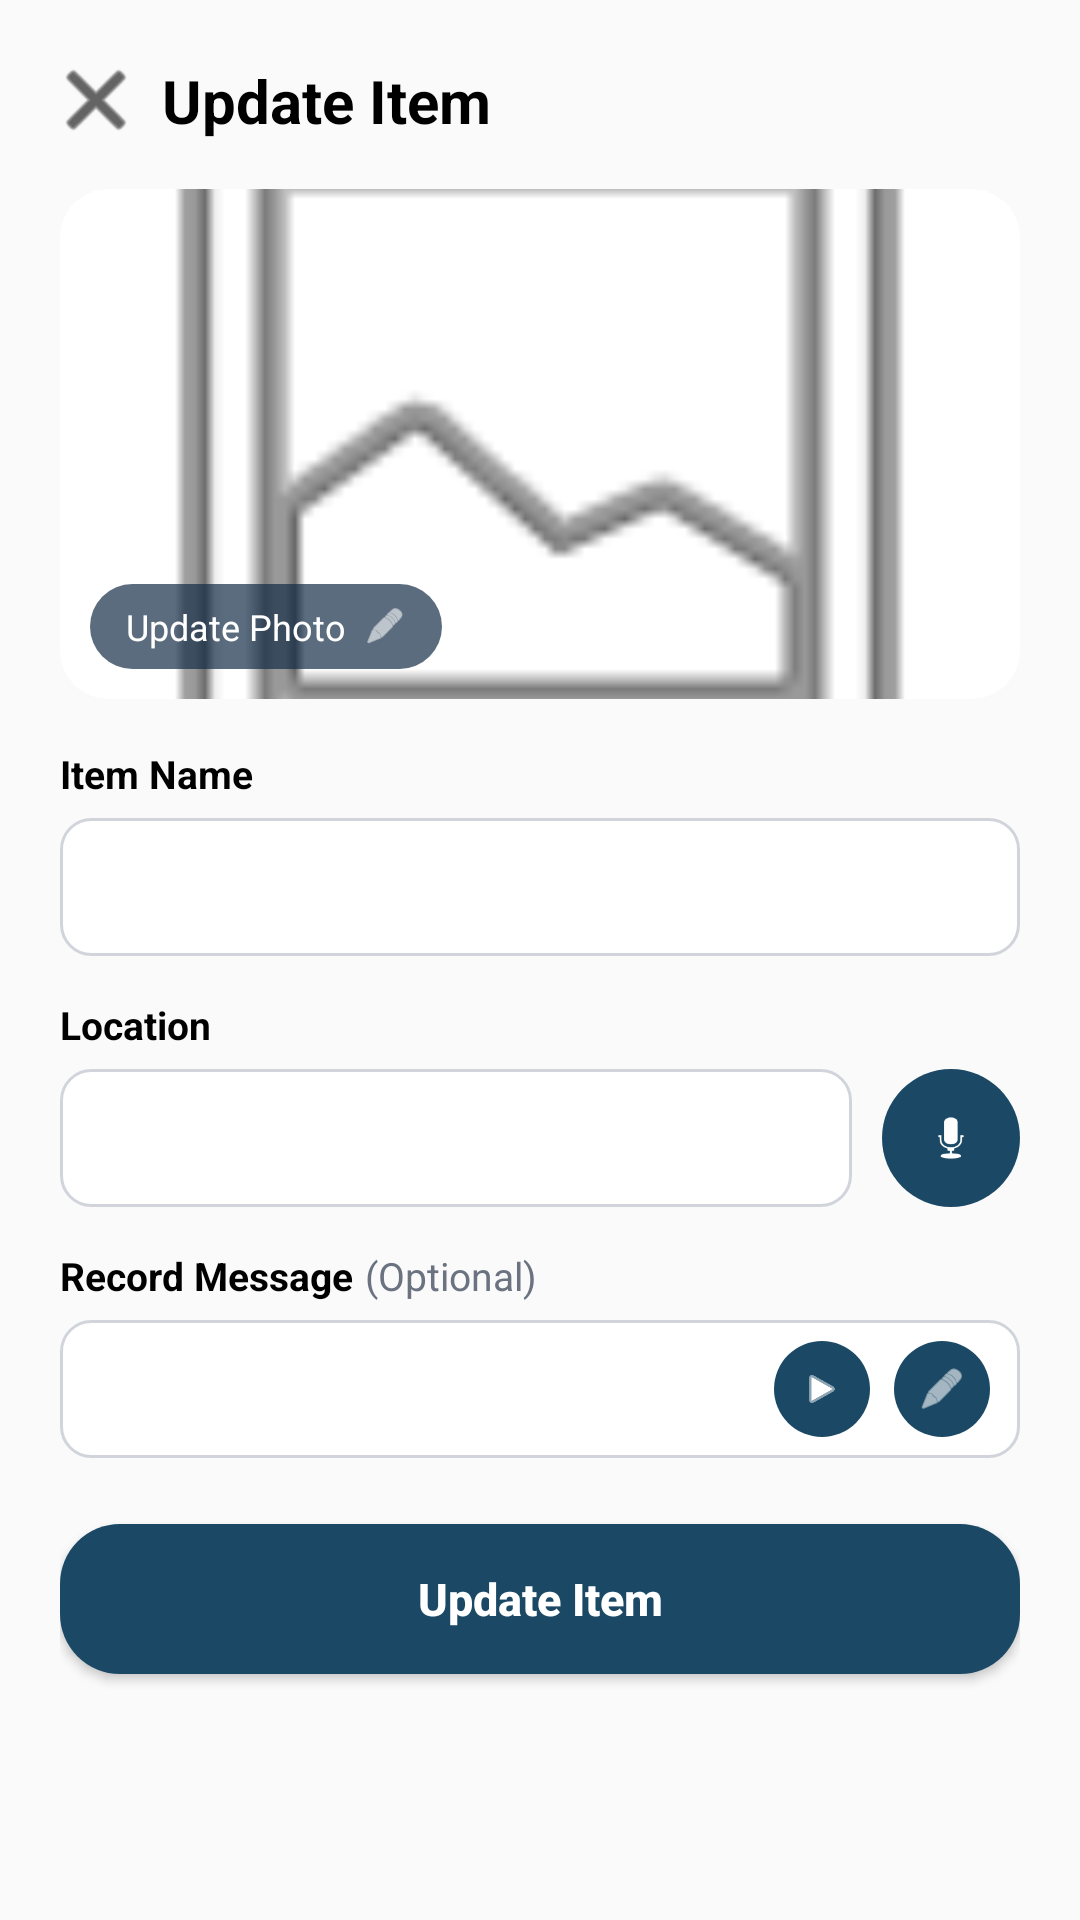

Screen size 1080 × 1920. Icon name, then its center in pixels as point (x, y):
Close: point (96, 100)
Edit recorded message: point (942, 1389)
Play recorded message: point (822, 1389)
Set location by voice: point (951, 1138)
